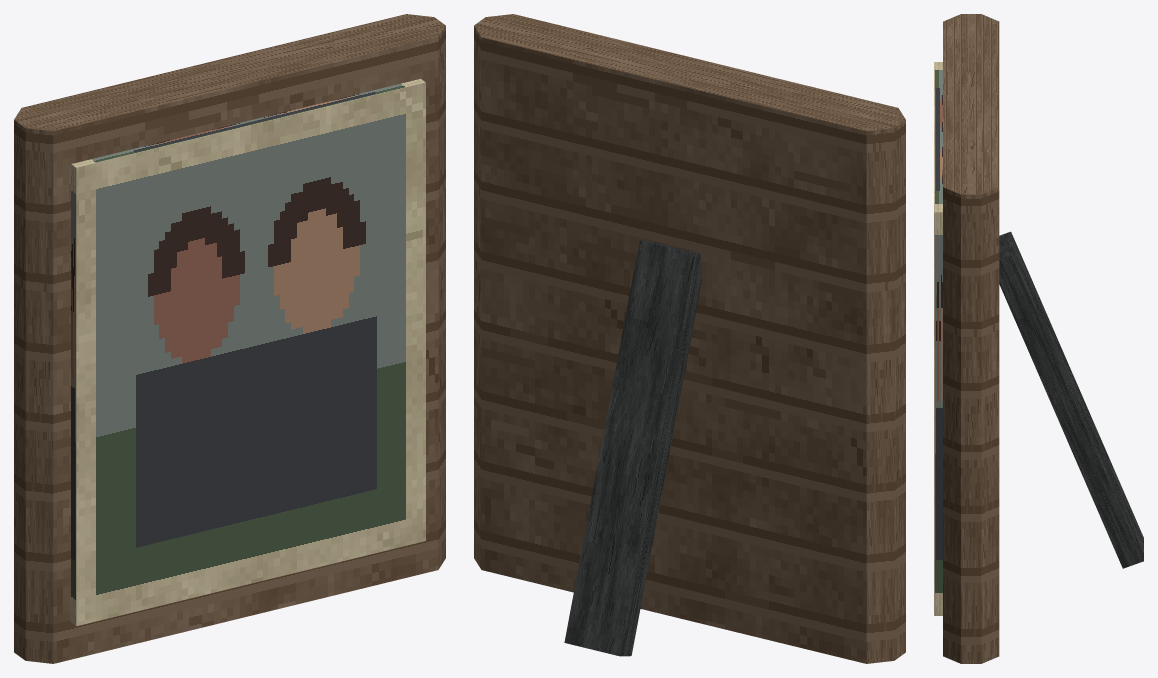
The model's file is photo_frame.glb.
3 renders of one model, left to right at view 1: azimuth 30°, elevation 25°; view 2: azimuth 150°, elevation 25°; view 3: azimuth 270°, elevation 25°, orthographic. The views are drawn at different scales.
Visible parts, largest first — view 1: Body; view 2: Body; view 3: Body.
Part boxes in pixels (box(x1,y1,x2,y2)): Body: box(14, 14, 445, 663); Body: box(474, 14, 905, 663); Body: box(934, 14, 1143, 663).
Bounding box in the file's own units: 0.19 × 0.23 × 0.0932.
Materials: 1 (1 with a texture image).
